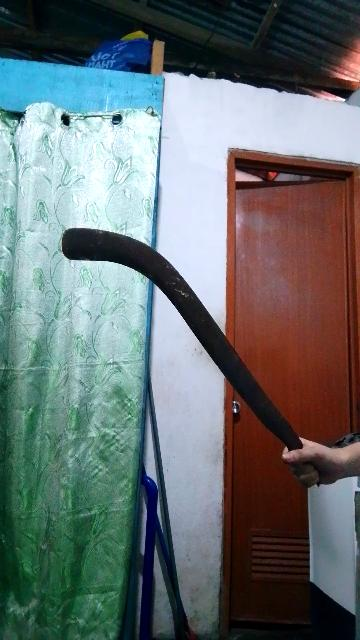long knife: (51, 212, 339, 490)
